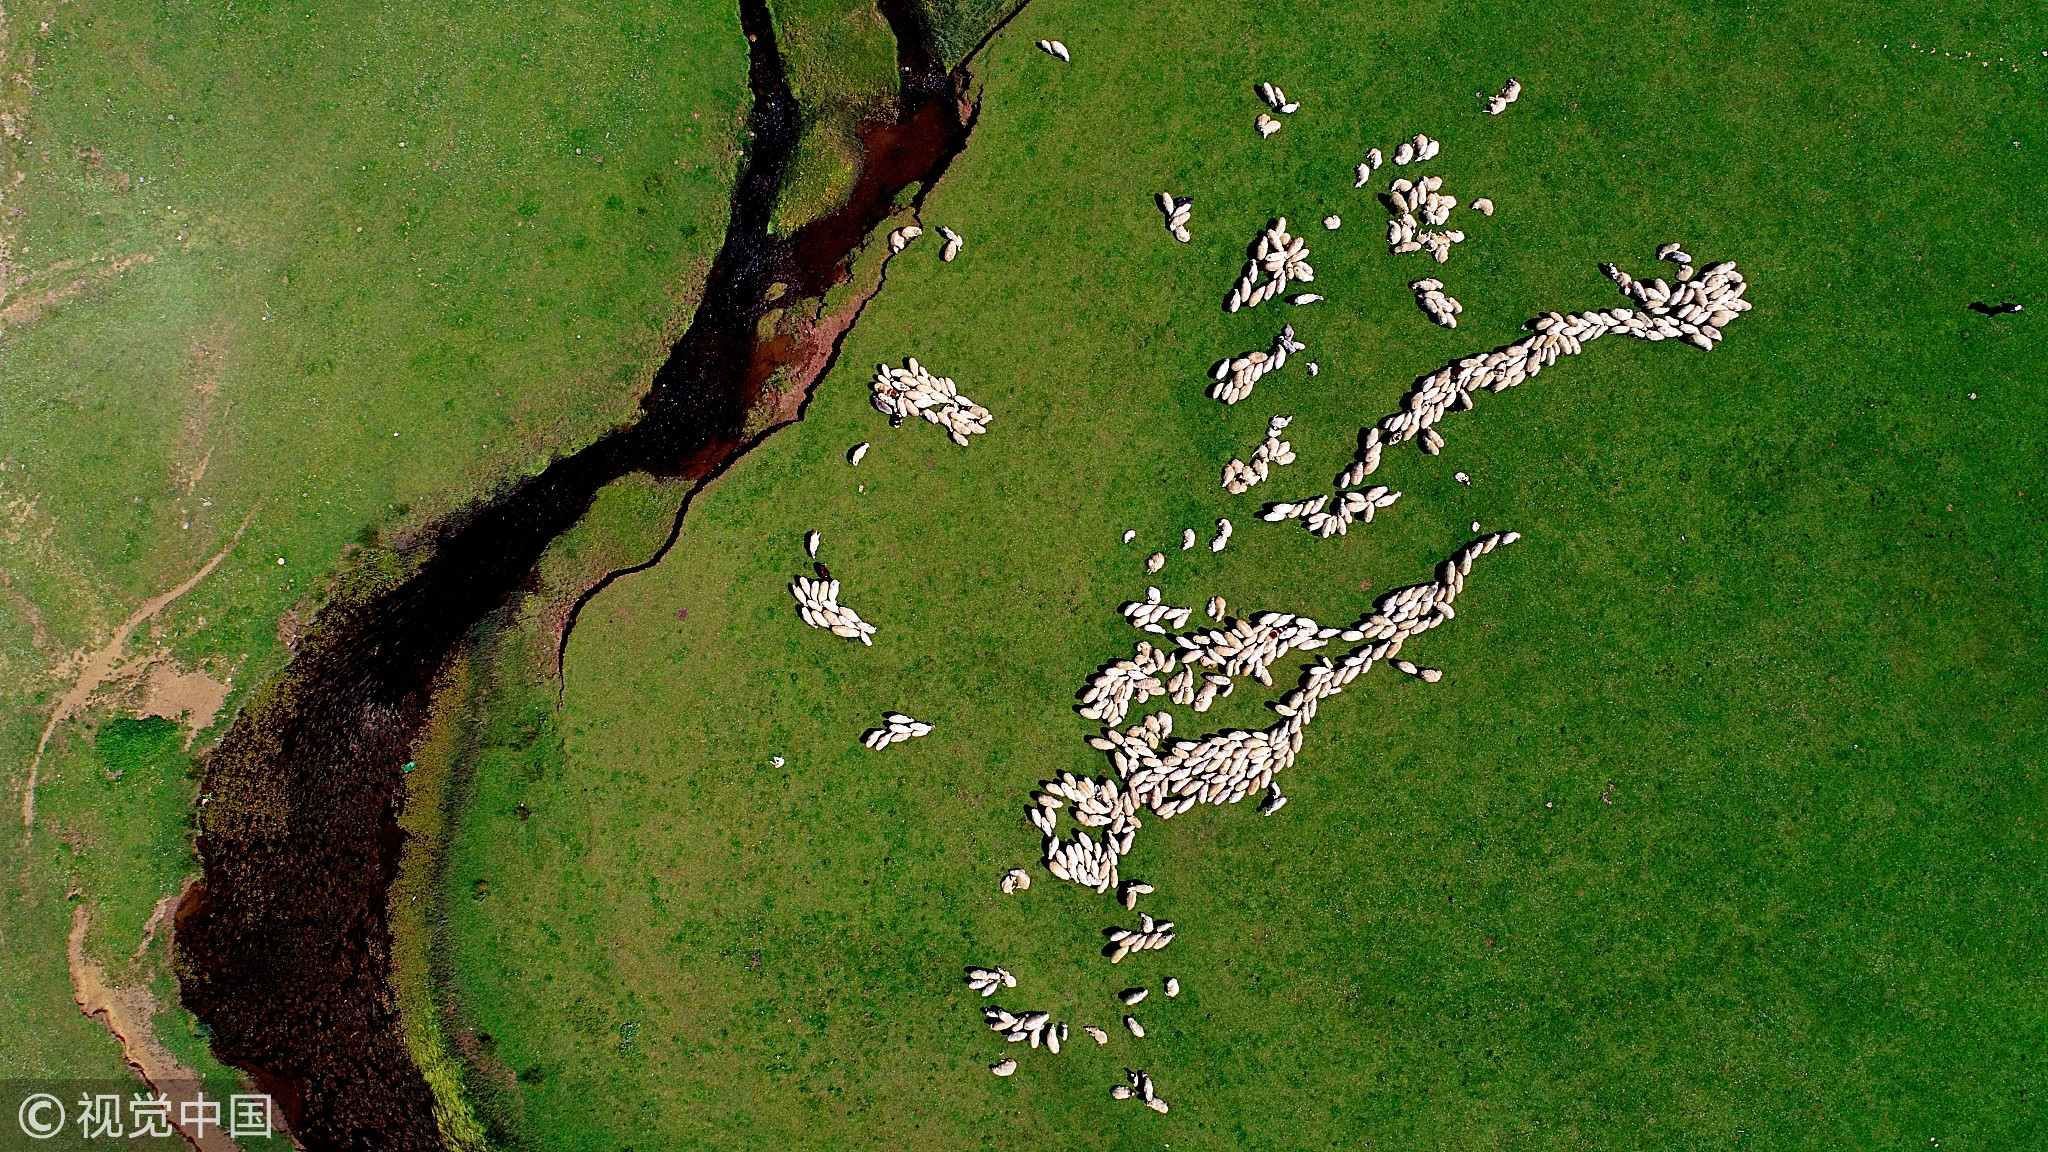sheep: (1038, 1023, 1068, 1059), (942, 219, 971, 256), (1000, 873, 1037, 900), (1011, 1009, 1051, 1031), (1121, 1017, 1151, 1045), (1076, 845, 1103, 876), (1260, 795, 1294, 819), (1701, 256, 1739, 277), (1416, 136, 1445, 165), (1141, 1092, 1170, 1118), (1274, 710, 1305, 736), (1390, 657, 1423, 679), (1651, 280, 1678, 308), (1391, 190, 1418, 218), (1103, 938, 1129, 966), (1416, 665, 1446, 691), (1003, 865, 1035, 888), (1061, 857, 1087, 883), (1416, 578, 1445, 603), (1129, 741, 1163, 762), (1072, 679, 1101, 703), (993, 964, 1017, 993), (1120, 983, 1152, 1004), (1146, 601, 1172, 627), (1082, 700, 1107, 727), (968, 976, 997, 999), (987, 1004, 1017, 1027), (1371, 488, 1402, 509), (1672, 283, 1699, 307), (1376, 639, 1402, 663), (1286, 730, 1312, 754), (1107, 1084, 1139, 1104), (1499, 77, 1522, 105), (800, 606, 823, 634), (883, 231, 909, 255), (1038, 807, 1062, 833), (1257, 667, 1280, 693), (805, 527, 826, 556), (1428, 599, 1456, 620), (1272, 698, 1300, 719), (987, 1061, 1020, 1079), (1352, 162, 1371, 191), (1207, 771, 1236, 791), (1032, 795, 1062, 814), (847, 442, 871, 466), (812, 558, 836, 582), (1049, 859, 1073, 883), (1142, 622, 1167, 644), (1390, 236, 1421, 255), (1685, 288, 1712, 309), (1300, 686, 1326, 708), (1041, 836, 1062, 862), (1001, 1025, 1028, 1047), (1644, 287, 1672, 307), (1371, 589, 1400, 609), (1086, 734, 1114, 754), (1110, 751, 1129, 779), (1197, 686, 1217, 715), (1131, 771, 1159, 791), (1056, 764, 1076, 792), (1293, 293, 1325, 309), (1414, 180, 1431, 212), (828, 623, 861, 640), (1338, 627, 1367, 646), (1129, 602, 1159, 620), (1328, 663, 1350, 686), (821, 610, 847, 632), (2000, 297, 2027, 316), (1259, 352, 1279, 378), (1343, 650, 1370, 670), (1218, 461, 1236, 489), (1212, 655, 1241, 674), (1726, 280, 1748, 302), (1084, 1025, 1107, 1048), (1724, 295, 1748, 316), (1146, 551, 1167, 575), (1485, 96, 1509, 117), (1257, 115, 1281, 136), (1394, 580, 1415, 603), (1115, 693, 1137, 717), (1409, 279, 1442, 294), (1459, 551, 1478, 577), (1092, 668, 1117, 688), (1169, 736, 1198, 753), (1421, 176, 1447, 194), (903, 385, 930, 404), (1501, 530, 1528, 549), (1245, 646, 1272, 664), (961, 966, 987, 985), (1138, 1070, 1153, 1101), (1627, 280, 1649, 302), (1561, 324, 1589, 340), (1305, 494, 1328, 515), (1051, 39, 1072, 62), (942, 241, 959, 269), (1270, 610, 1293, 632), (1229, 617, 1252, 639), (1303, 663, 1331, 679), (1283, 691, 1311, 708), (1177, 781, 1205, 798), (983, 1016, 1011, 1032), (1577, 325, 1601, 345), (876, 392, 900, 412), (869, 731, 893, 751), (1689, 332, 1715, 350), (1364, 482, 1390, 501), (1433, 243, 1452, 269), (1440, 225, 1466, 243), (1172, 639, 1197, 657), (1106, 921, 1131, 940), (1153, 919, 1179, 937), (1110, 655, 1139, 671), (1222, 727, 1252, 743), (1243, 256, 1260, 283), (1383, 217, 1400, 243), (1246, 745, 1273, 762), (1436, 191, 1457, 212), (1553, 335, 1575, 354), (1566, 333, 1585, 356), (1160, 978, 1180, 1000), (1272, 271, 1290, 295), (1470, 198, 1494, 217), (816, 580, 834, 603), (1224, 354, 1252, 370), (1273, 214, 1288, 242), (1184, 741, 1215, 755), (1129, 881, 1158, 896), (1653, 243, 1678, 260), (1269, 414, 1294, 430), (890, 729, 916, 745), (1144, 710, 1160, 736), (1169, 767, 1194, 783), (1023, 1024, 1039, 1049), (1362, 454, 1383, 474), (1273, 345, 1287, 374), (1169, 210, 1189, 231), (837, 605, 858, 625), (904, 720, 934, 734), (1295, 637, 1325, 651), (1210, 632, 1239, 646), (1077, 833, 1097, 854), (1269, 229, 1284, 256), (1395, 224, 1414, 246), (767, 754, 789, 772), (1163, 605, 1196, 617), (1695, 324, 1719, 340), (850, 619, 873, 636), (1172, 798, 1196, 814), (1103, 779, 1120, 803), (1041, 776, 1058, 800), (1139, 930, 1156, 954), (1058, 1023, 1075, 1047), (1362, 499, 1376, 527), (1239, 276, 1253, 304), (899, 226, 927, 241), (828, 580, 843, 608), (1641, 329, 1667, 345), (1668, 321, 1699, 333), (1321, 516, 1336, 542), (1227, 288, 1242, 314), (1266, 257, 1291, 273), (1388, 619, 1419, 632), (1131, 677, 1162, 689), (1153, 800, 1179, 816), (1492, 376, 1512, 395), (1425, 428, 1445, 447), (1250, 461, 1270, 481), (1270, 87, 1290, 107), (1132, 639, 1152, 658), (1634, 309, 1656, 328), (1467, 376, 1485, 397), (1286, 499, 1304, 520), (1236, 383, 1257, 401), (1294, 259, 1312, 280), (1173, 203, 1191, 224), (791, 582, 809, 603), (1483, 535, 1501, 556), (1191, 760, 1212, 778), (1227, 767, 1248, 785), (1568, 314, 1591, 331), (1394, 143, 1411, 166), (1260, 77, 1277, 100), (1350, 460, 1364, 487), (1333, 511, 1348, 537), (1269, 497, 1295, 511), (1183, 527, 1197, 554), (886, 364, 913, 378), (909, 397, 935, 411), (1318, 627, 1345, 641), (1625, 316, 1649, 332), (1656, 325, 1679, 340), (1395, 211, 1419, 226), (1121, 677, 1137, 700), (1708, 271, 1727, 290), (1363, 442, 1381, 461), (1208, 536, 1228, 554), (1262, 280, 1280, 300), (1431, 229, 1450, 248), (1132, 914, 1152, 933), (1724, 269, 1746, 286), (1615, 269, 1632, 290), (1594, 324, 1611, 345), (1419, 405, 1433, 430), (1421, 436, 1438, 457), (1220, 516, 1236, 537), (1274, 435, 1291, 456), (1421, 300, 1442, 316), (1423, 194, 1440, 215), (904, 356, 921, 377), (903, 397, 920, 418), (933, 411, 949, 432), (888, 712, 916, 724), (864, 724, 881, 745), (1212, 596, 1227, 622), (1170, 610, 1191, 627), (1167, 670, 1184, 691), (1609, 307, 1632, 322), (1402, 605, 1425, 620), (1243, 361, 1256, 388), (1256, 236, 1269, 263), (1609, 324, 1633, 338), (1543, 321, 1567, 335), (1364, 428, 1378, 452), (1250, 286, 1265, 309), (1160, 191, 1175, 215), (1419, 288, 1443, 302), (1407, 188, 1421, 212), (1369, 148, 1383, 172), (807, 577, 821, 601), (1442, 558, 1456, 582), (1471, 540, 1490, 558), (1248, 762, 1266, 781), (1672, 263, 1689, 283), (1629, 326, 1649, 343), (1542, 333, 1561, 350), (1506, 359, 1526, 376), (1205, 674, 1235, 685), (1204, 731, 1224, 748), (1272, 781, 1288, 800), (1106, 871, 1122, 890), (1547, 309, 1568, 325), (930, 390, 951, 405), (1443, 585, 1459, 606), (1371, 610, 1393, 626), (1336, 495, 1349, 520), (1263, 512, 1288, 525), (1343, 502, 1371, 513), (1259, 612, 1281, 626), (1253, 729, 1276, 743), (1122, 888, 1137, 910), (1409, 392, 1428, 409), (1385, 430, 1404, 447), (1236, 466, 1255, 482), (1120, 527, 1137, 546), (1418, 229, 1436, 246), (1435, 207, 1452, 225), (1414, 620, 1431, 639), (1210, 758, 1229, 774), (1024, 813, 1044, 828), (1055, 852, 1070, 872), (1459, 357, 1483, 370), (1272, 450, 1295, 463), (1222, 378, 1235, 402), (1293, 617, 1317, 630), (1706, 301, 1727, 315), (1581, 309, 1602, 324), (1252, 347, 1273, 361), (1288, 235, 1303, 256), (944, 376, 958, 397), (900, 373, 921, 387), (1106, 664, 1127, 678), (1433, 369, 1450, 385), (1459, 390, 1471, 412), (1305, 511, 1331, 522), (1325, 212, 1342, 229), (1277, 103, 1303, 114), (871, 381, 893, 394), (968, 416, 985, 433), (1452, 574, 1464, 596), (1082, 774, 1094, 796), (1551, 339, 1567, 357), (1442, 390, 1457, 408), (1214, 357, 1229, 376), (1433, 309, 1449, 328), (927, 374, 942, 392), (1121, 601, 1139, 616), (1191, 632, 1210, 647), (1304, 359, 1318, 378), (1393, 179, 1412, 193), (1416, 134, 1431, 153), (1364, 625, 1384, 639), (888, 722, 911, 733), (1257, 444, 1270, 466), (1222, 751, 1243, 764), (875, 361, 890, 378), (948, 421, 964, 437), (1359, 644, 1376, 660), (1672, 250, 1691, 264), (1601, 312, 1619, 326), (1483, 371, 1497, 390), (1290, 246, 1304, 264), (916, 363, 930, 381), (954, 430, 968, 449), (1274, 646, 1293, 660), (1532, 316, 1554, 328), (895, 397, 906, 419), (1506, 345, 1526, 357), (1265, 435, 1277, 454), (1377, 626, 1393, 641), (1546, 347, 1557, 369), (1533, 335, 1547, 352), (1528, 350, 1539, 371), (1431, 390, 1447, 404), (1339, 473, 1353, 489), (1234, 370, 1245, 391), (1433, 295, 1447, 312), (1039, 38, 1054, 55), (813, 608, 827, 625), (859, 632, 876, 646), (1156, 935, 1173, 949), (1511, 369, 1523, 387), (1176, 225, 1189, 243), (1391, 630, 1409, 643), (1357, 620, 1377, 632), (1165, 747, 1184, 758), (916, 376, 931, 390), (1390, 415, 1402, 432), (1293, 338, 1305, 354), (1345, 491, 1366, 501), (1488, 353, 1506, 364), (1433, 404, 1445, 422), (1232, 457, 1243, 475), (1421, 376, 1435, 390), (1281, 338, 1295, 352), (923, 408, 937, 422), (1522, 336, 1537, 349), (1471, 352, 1487, 364), (1281, 324, 1294, 339), (1304, 675, 1319, 688), (1539, 345, 1549, 364), (1402, 409, 1412, 429), (875, 374, 892, 385), (800, 574, 809, 596), (1423, 388, 1439, 399), (1228, 388, 1236, 408), (1446, 311, 1454, 331), (1450, 294, 1459, 314), (1212, 383, 1222, 398), (951, 414, 966, 423), (1391, 610, 1407, 620), (1212, 641, 1234, 648)
